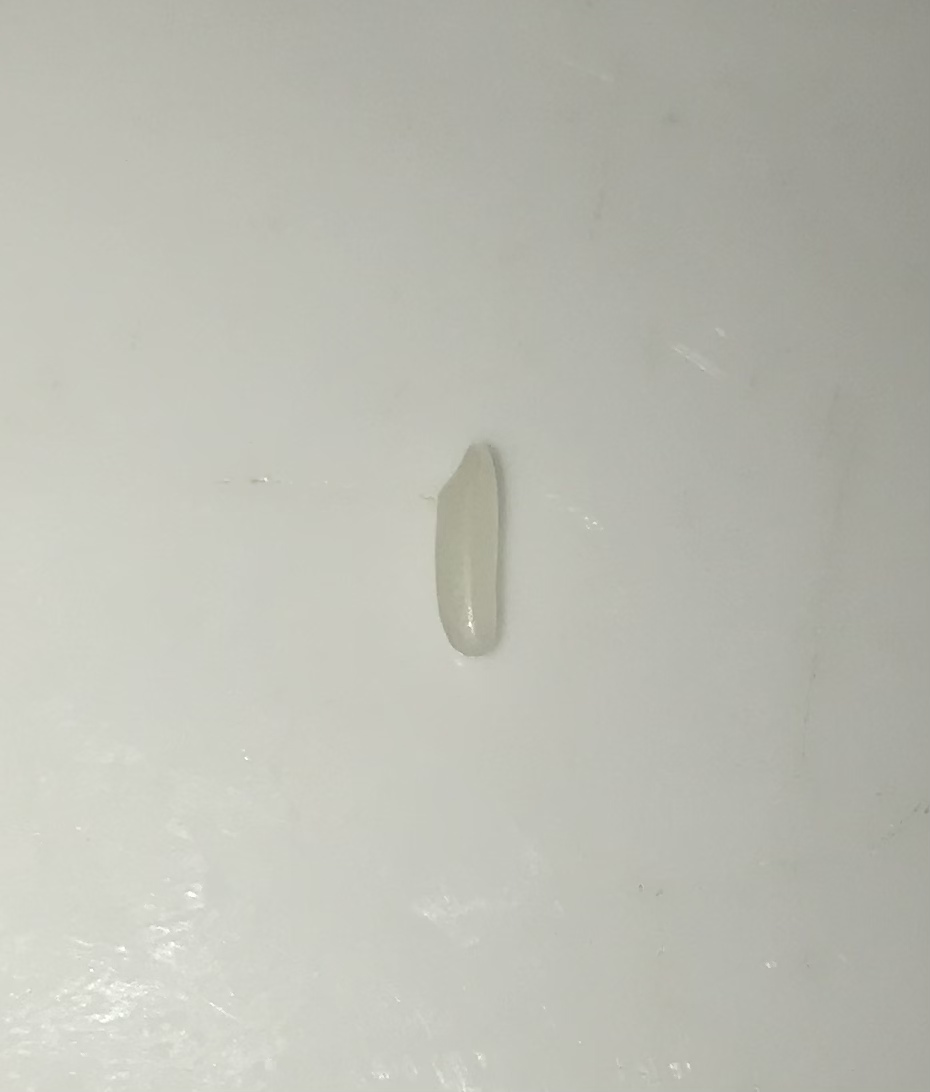Gao Ngoc Troi: (407, 421, 520, 680)
